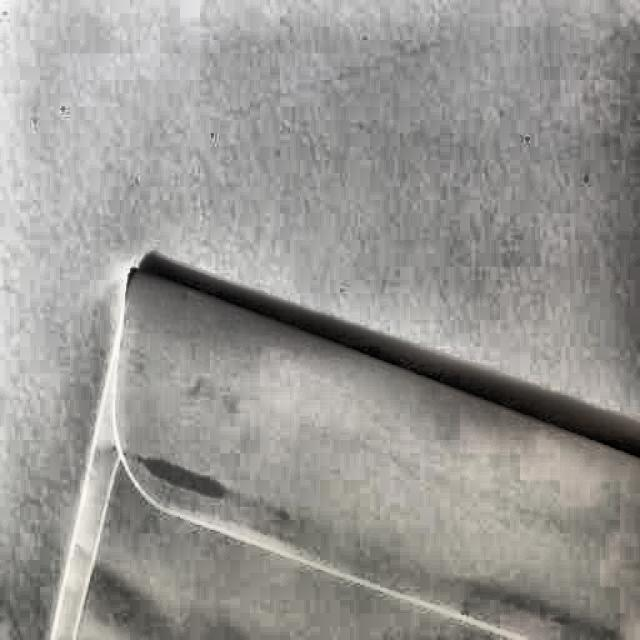paper: (68, 260, 640, 640)
